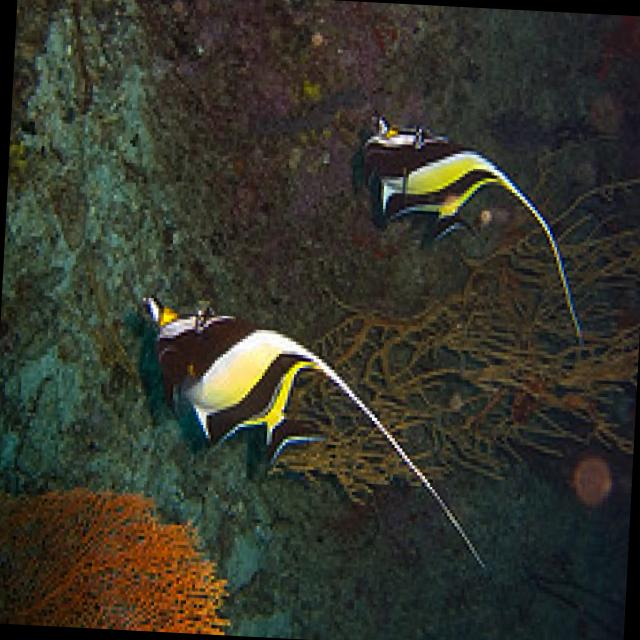MorishIdol: (127, 288, 502, 571), (346, 108, 594, 346)
